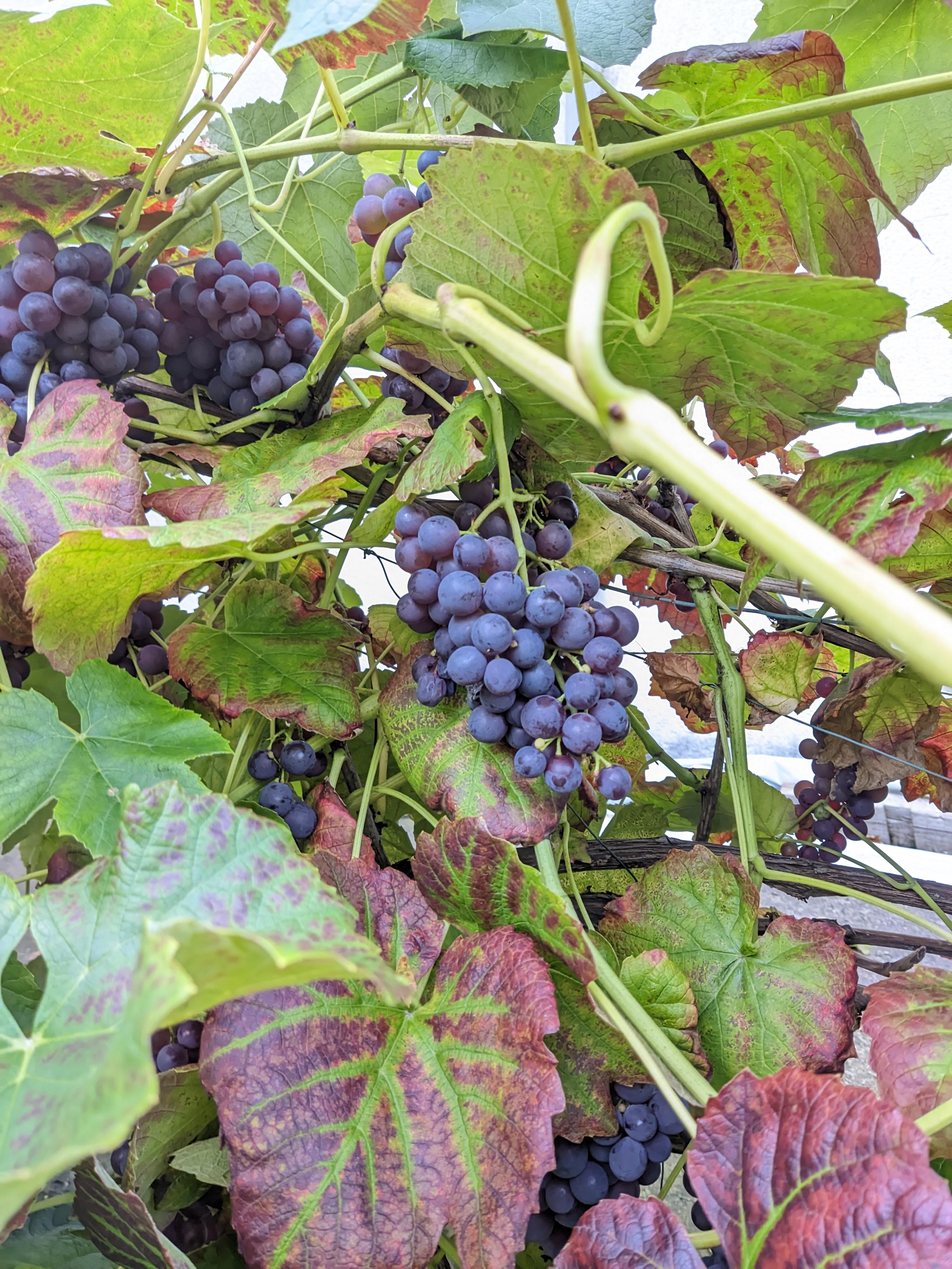Grape Unripe: (391, 472, 638, 800), (0, 228, 162, 447), (147, 231, 325, 417), (526, 1074, 697, 1257), (357, 151, 475, 413), (110, 1021, 237, 1253), (780, 676, 888, 864), (251, 735, 318, 839), (108, 595, 169, 675), (0, 643, 31, 686)
